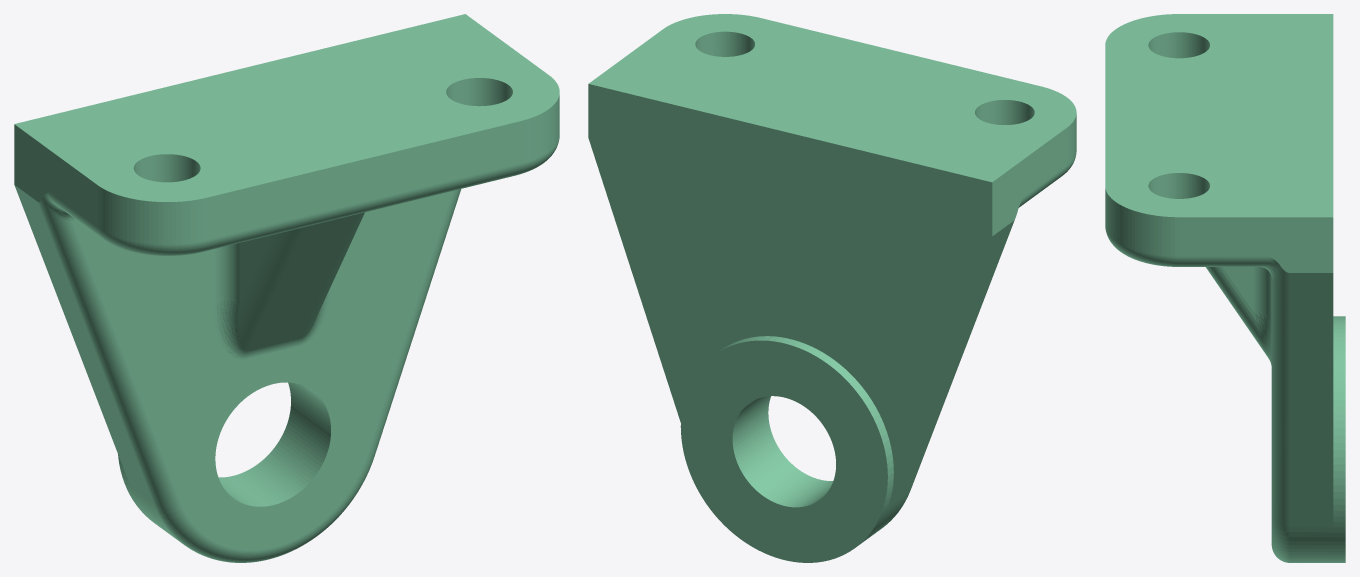
Rendered from BRACKET.glb.
3 renders of one model, left to right at view 1: azimuth 30°, elevation 25°; view 2: azimuth 150°, elevation 25°; view 3: azimuth 270°, elevation 25°, orthographic. The views are drawn at different scales.
Visible parts, largest first — view 1: BRACKET; view 2: BRACKET; view 3: BRACKET.
Part boxes in pixels (<box>): BRACKET: <box>14,14,559,562</box>; BRACKET: <box>588,14,1076,562</box>; BRACKET: <box>1105,14,1345,562</box>.
Size of the model in its own units: 78 by 77.99 by 39.
